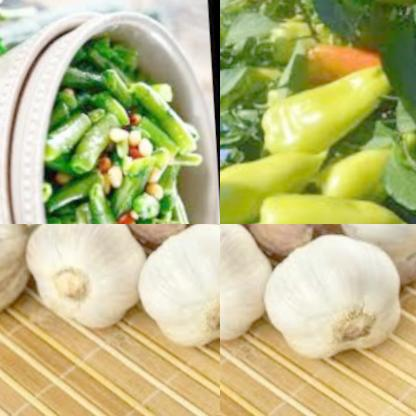bell pepper: (247, 66, 387, 169), (220, 145, 339, 224), (243, 177, 400, 224)
fasol: (46, 58, 209, 224)
garlic: (255, 233, 410, 360), (12, 224, 150, 337), (129, 224, 220, 347), (220, 224, 276, 349), (324, 224, 416, 285), (0, 224, 36, 312), (231, 224, 315, 252), (105, 224, 189, 240)
